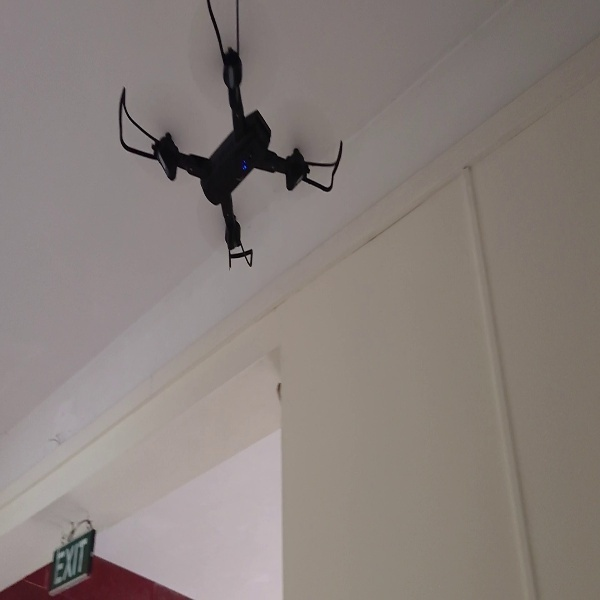drone: (115, 3, 344, 271)
